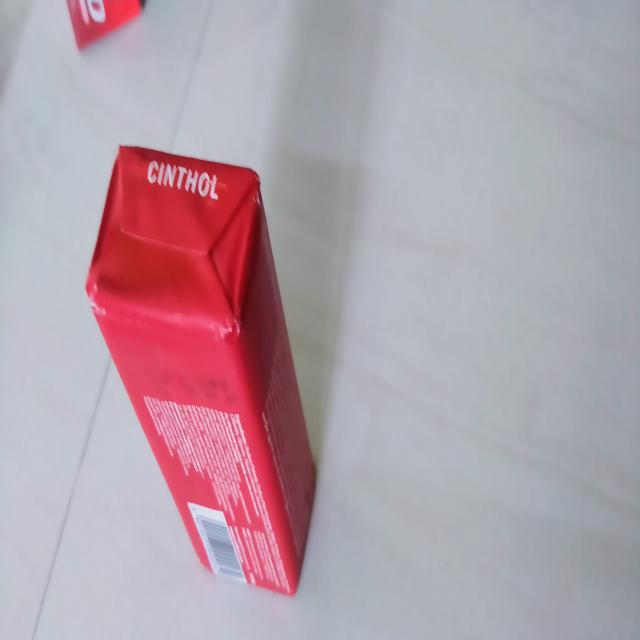soap: (82, 152, 316, 605)
